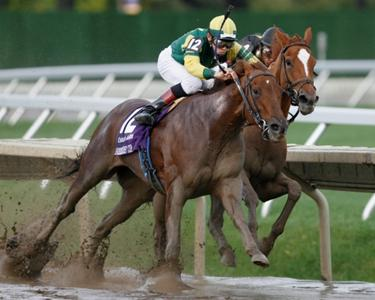person: (130, 14, 262, 126)
